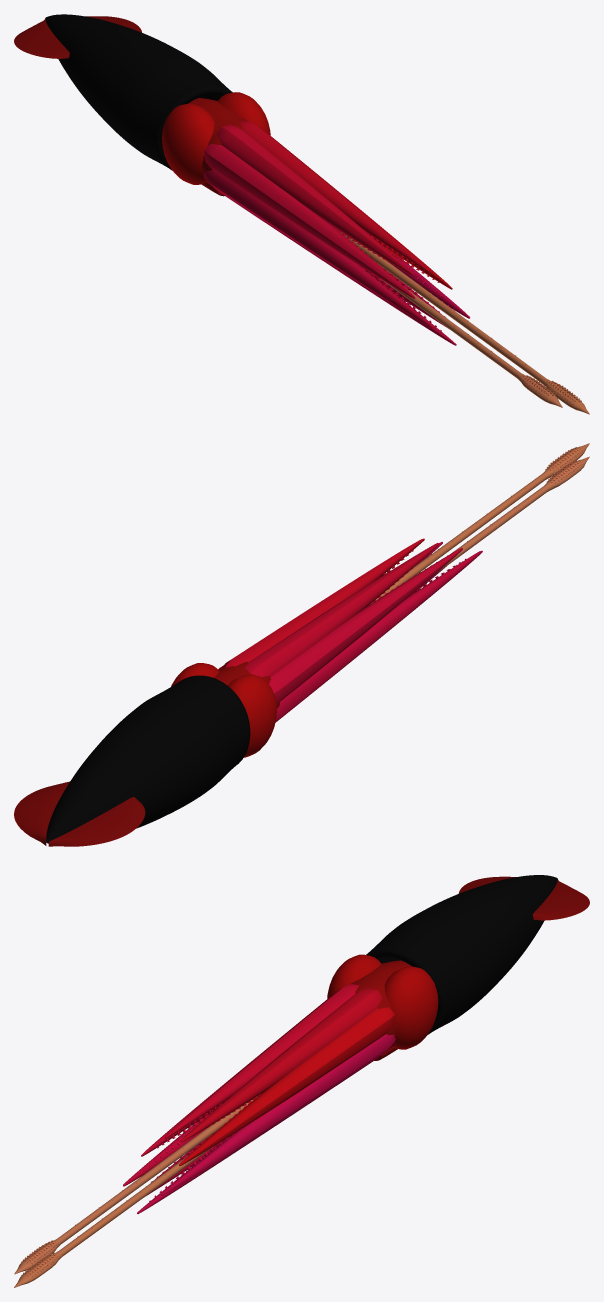
The model's file is giant_squid.glb.
The picture shows the model from 3 angles, top to bottom: view 1: azimuth 30°, elevation 25°; view 2: azimuth 150°, elevation 25°; view 3: azimuth 330°, elevation 25°; orthographic projection. The views are drawn at different scales.
Parts seen in each view (by area): view 1: giant_squid; view 2: giant_squid; view 3: giant_squid.
Part boxes in pixels (x1,y1,x2,y2): giant_squid: (14,14,589,414); giant_squid: (14,443,589,846); giant_squid: (14,875,589,1287).
Size of the model in its own units: 0.841 by 0.6851 by 6.95.
